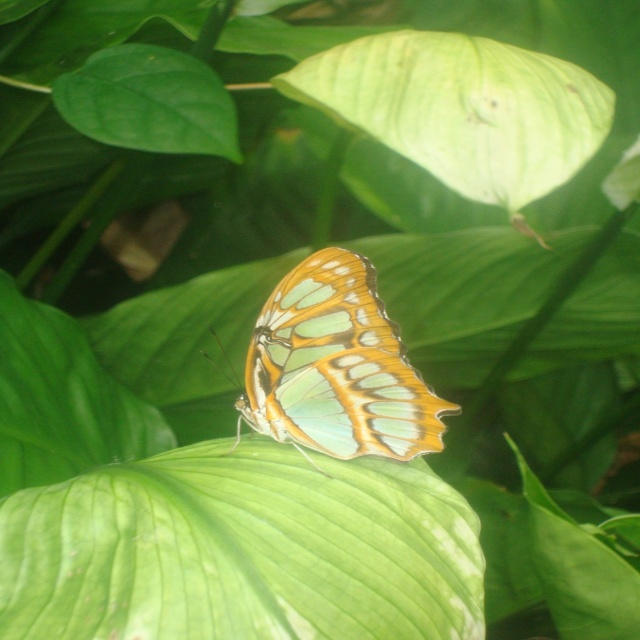Butterfly: (201, 248, 466, 481)
